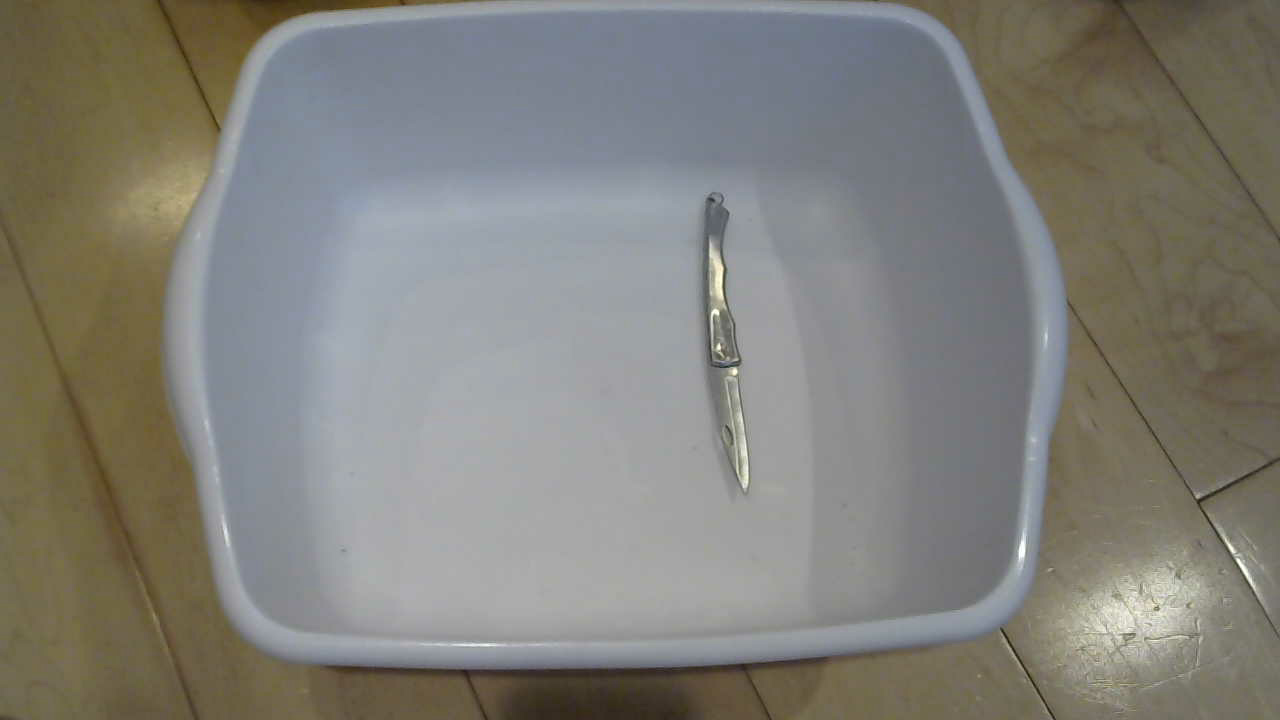knife: (687, 181, 766, 515)
